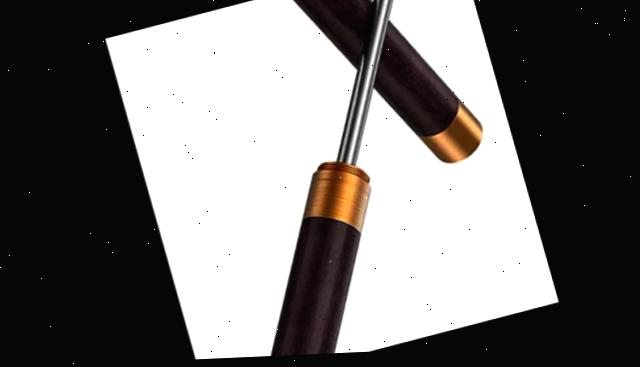ice pick: (102, 0, 556, 363), (238, 0, 489, 206)
